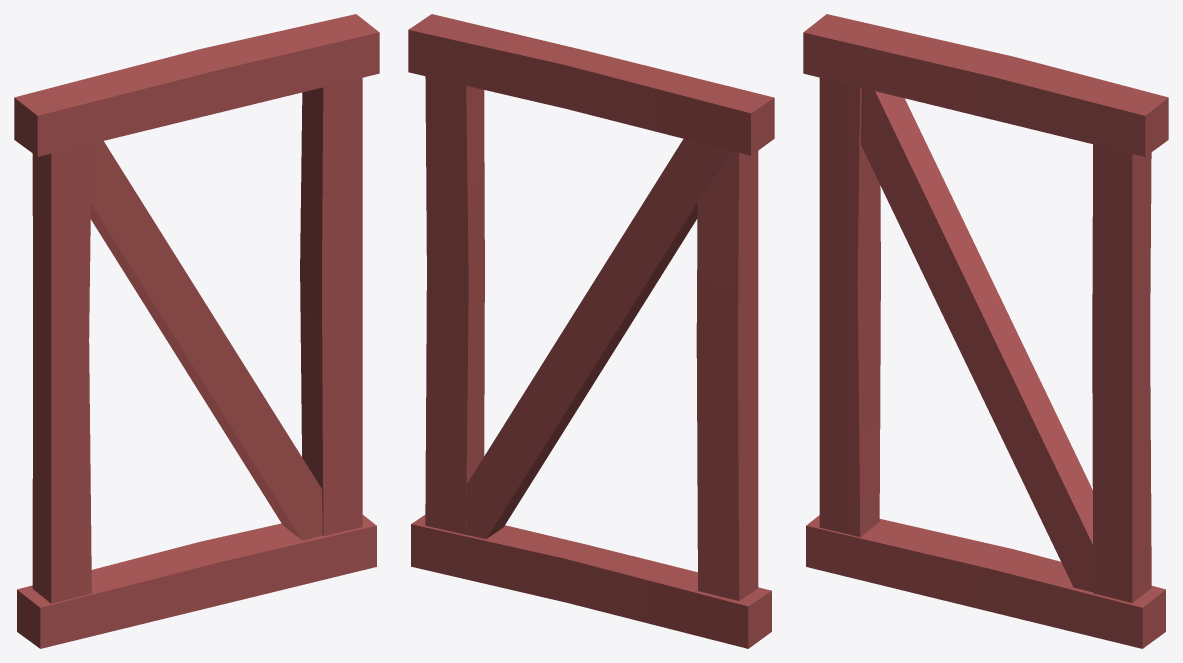
File: Small_Beam_Structure_04_Lod0.fbx
3 renders of one model, left to right at view 1: azimuth 30°, elevation 25°; view 2: azimuth 150°, elevation 25°; view 3: azimuth 330°, elevation 25°, orthographic.
Parts seen in each view (by area): view 1: Small_Beam_Structure_04_Lod0; view 2: Small_Beam_Structure_04_Lod0; view 3: Small_Beam_Structure_04_Lod0.
Boxes of the visible parts, x1,y1,x2,y2 form: Small_Beam_Structure_04_Lod0: (14, 14, 379, 648); Small_Beam_Structure_04_Lod0: (408, 14, 774, 648); Small_Beam_Structure_04_Lod0: (803, 14, 1168, 648).
Size of the model in its own units: 54.19 by 81.46 by 6.44.
